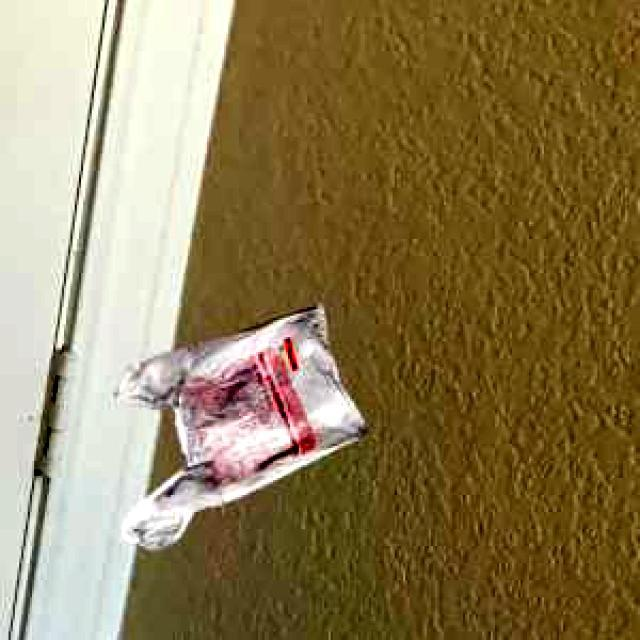Plastic_Bag: (112, 300, 364, 548)
